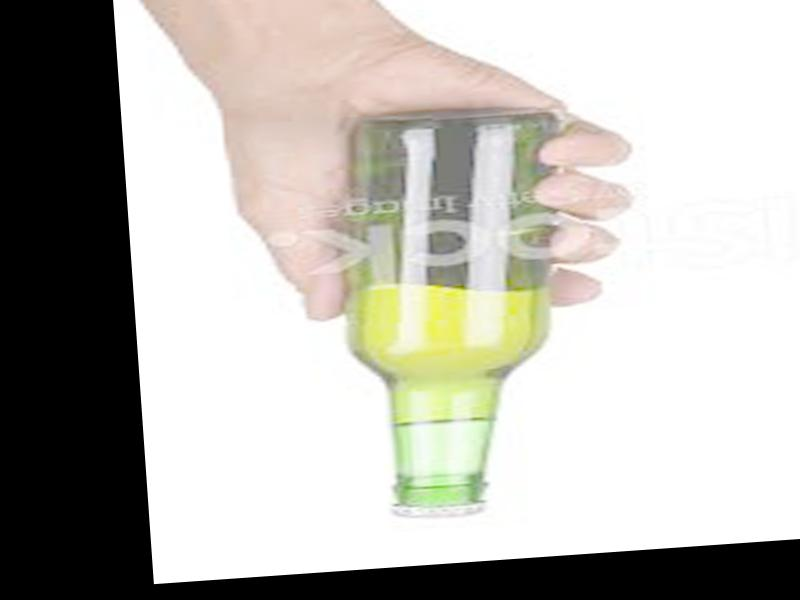Beer: (326, 105, 573, 523)
